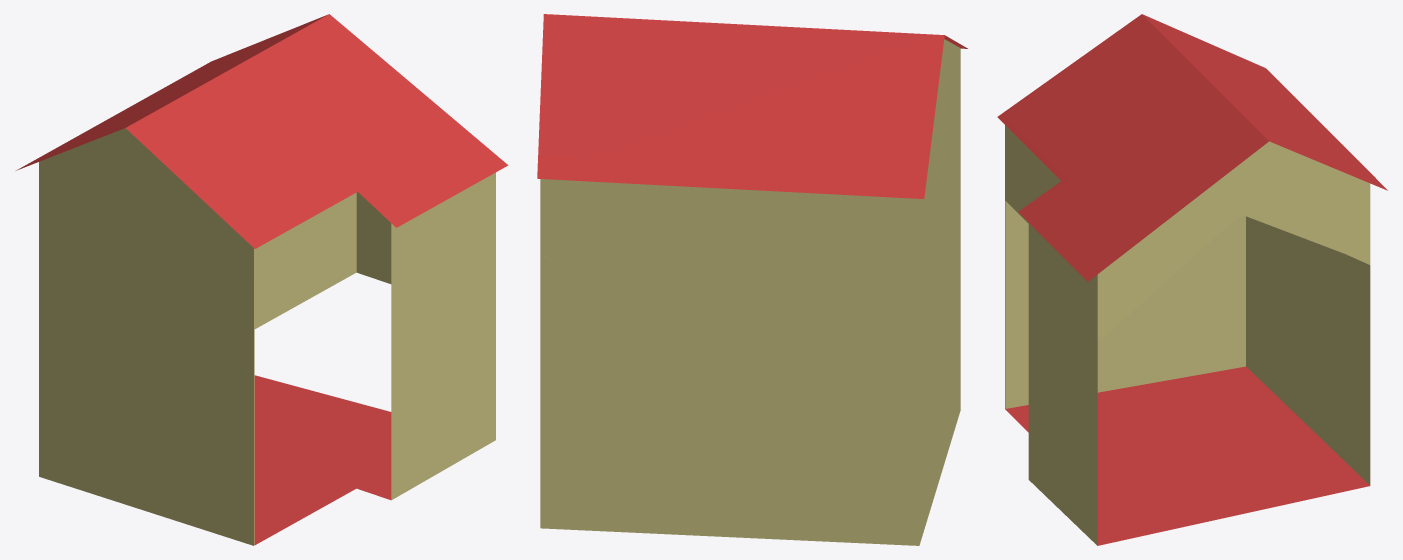
3 views of the same model, side by side, from view 1: azimuth 30°, elevation 25°; view 2: azimuth 150°, elevation 25°; view 3: azimuth 270°, elevation 25° (orthographic). The views are drawn at different scales.
Bounding box in the file's own units: 18.87 × 16.45 × 17.05.
